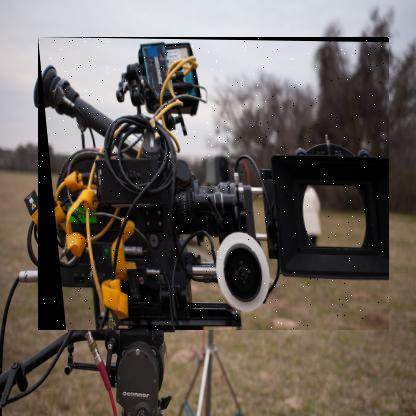Camera: (39, 38, 391, 332)
